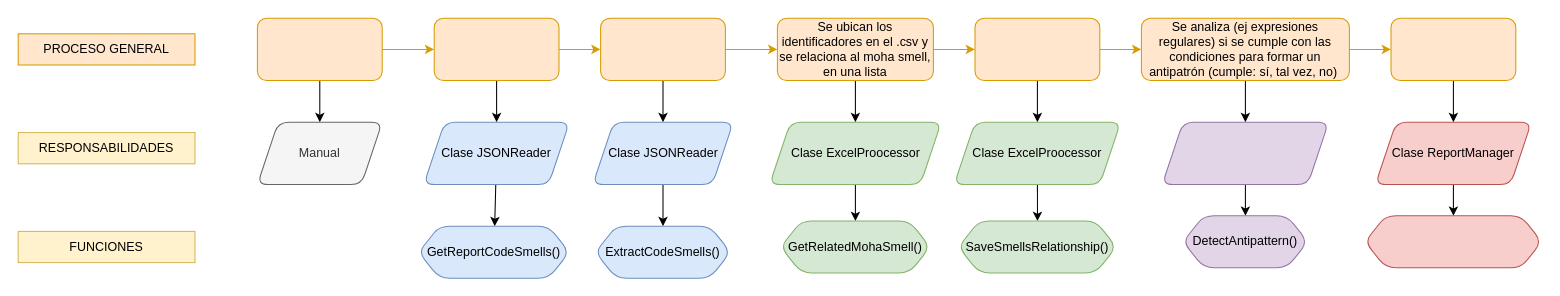
This 1560x296 diagram has some shape labels left out. The centre of each missing label's shape, as x and y in pixels:
"Clase AntipatternDetector" goes at (1245,153).
"GenerateAntipatternReport()" goes at (1453,241).
"Se extraen los identificadores de los smells encontrados" goes at (662,49).
"Se genera un reporte en PDF, HTML o el requerido" goes at (1453,49).
"Se guarda la relación en un archivo (ej .txt)" goes at (1037,49).
"Se obtiene el reporte de Smells a través de la API de Sonar (.json)" goes at (496,49).
"Se pasa el código al SonarQube" goes at (319,49).
